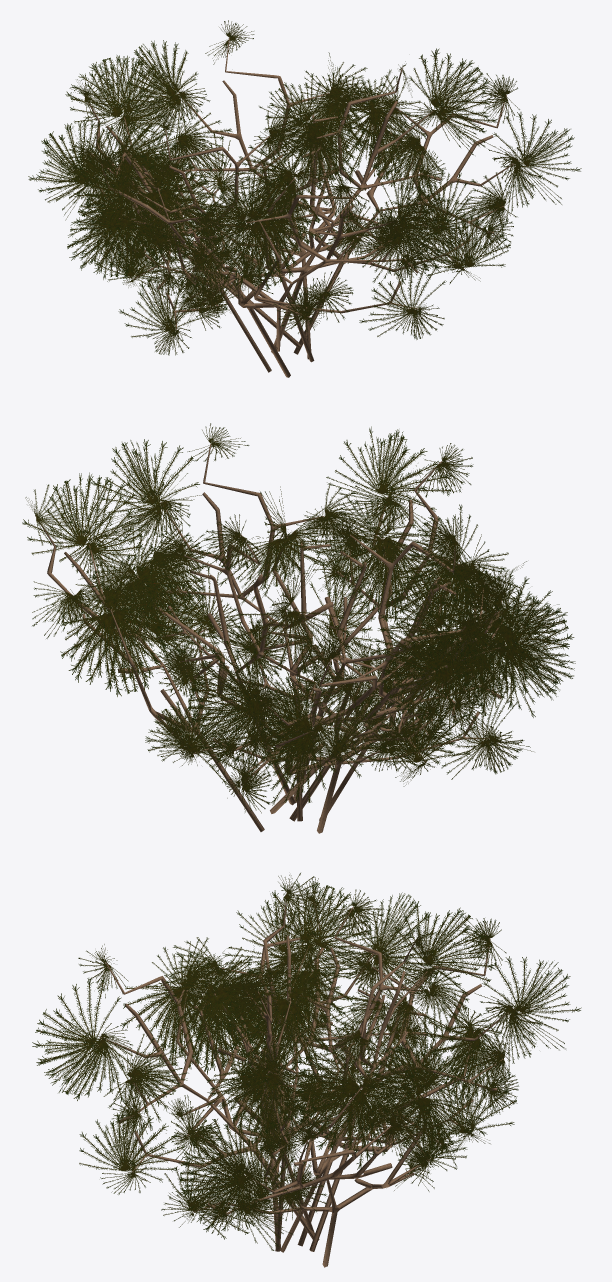
The model's file is SM_bush_03.glb.
3 renders of one model, top to bottom at view 1: azimuth 30°, elevation 25°; view 2: azimuth 150°, elevation 25°; view 3: azimuth 270°, elevation 25°, orthographic. The views are drawn at different scales.
Parts seen in each view (by area): view 1: SM_bush_03; view 2: SM_bush_03; view 3: SM_bush_03.
Boxes of the visible parts, x1,y1,x2,y2 form: SM_bush_03: [28, 20, 581, 377]; SM_bush_03: [22, 423, 575, 833]; SM_bush_03: [32, 873, 581, 1267].
Bounding box in the file's own units: 3.26 × 1.9 × 2.98.
Materials: 2 (2 with a texture image).
